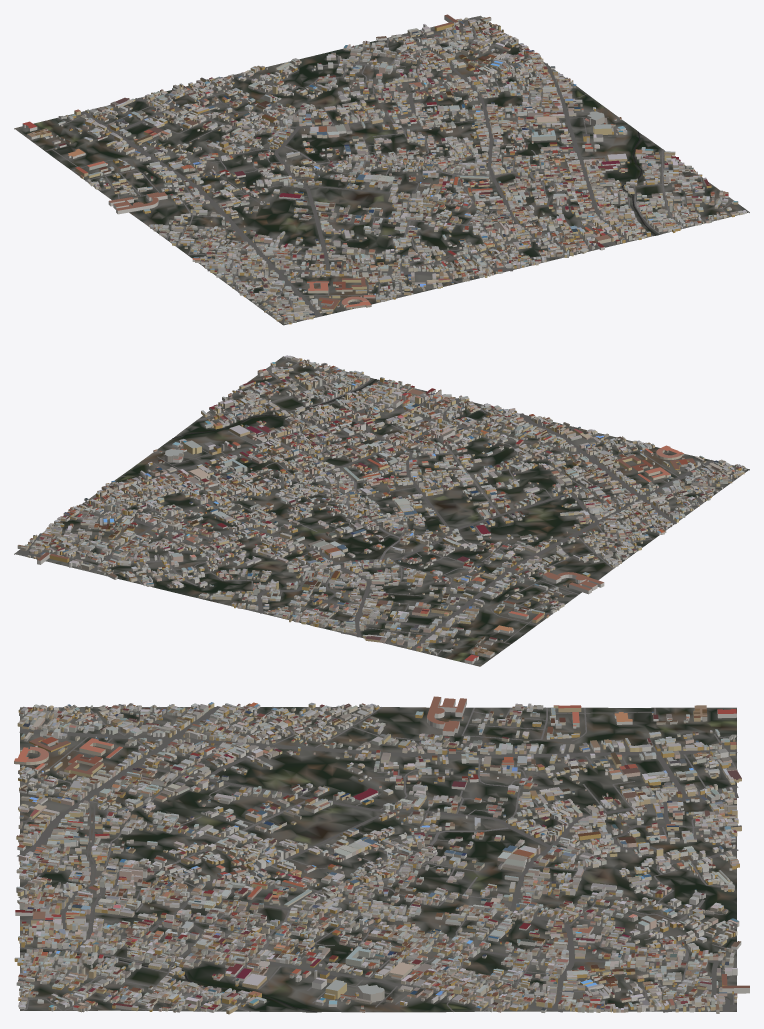
3 renders of one model, top to bottom at view 1: azimuth 30°, elevation 25°; view 2: azimuth 150°, elevation 25°; view 3: azimuth 270°, elevation 25°, orthographic. The views are drawn at different scales.
Visible parts, largest first — view 1: buildings, ground, roads; view 2: buildings, ground, roads; view 3: buildings, ground, roads.
Boxes of the visible parts, <box> form: buildings: <box>22,14,746,324</box>; ground: <box>14,15,749,325</box>; roads: <box>45,17,748,322</box>; buildings: <box>17,355,746,664</box>; ground: <box>14,356,749,666</box>; roads: <box>17,356,735,655</box>; buildings: <box>14,696,749,1014</box>; ground: <box>20,707,736,1012</box>; roads: <box>17,706,738,1012</box>.
Size of the model in its own units: 1441 by 27.16 by 1438.
